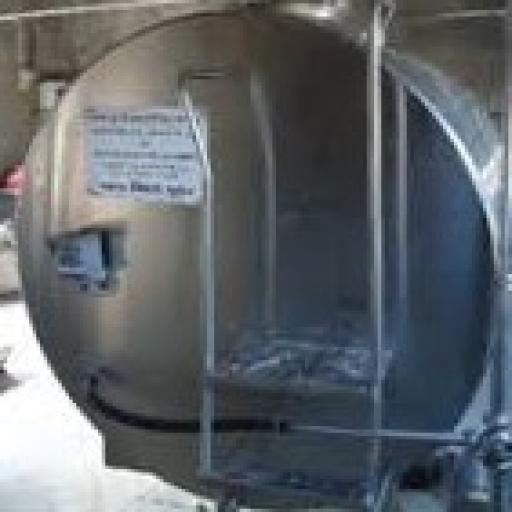silo: (16, 0, 506, 509)
